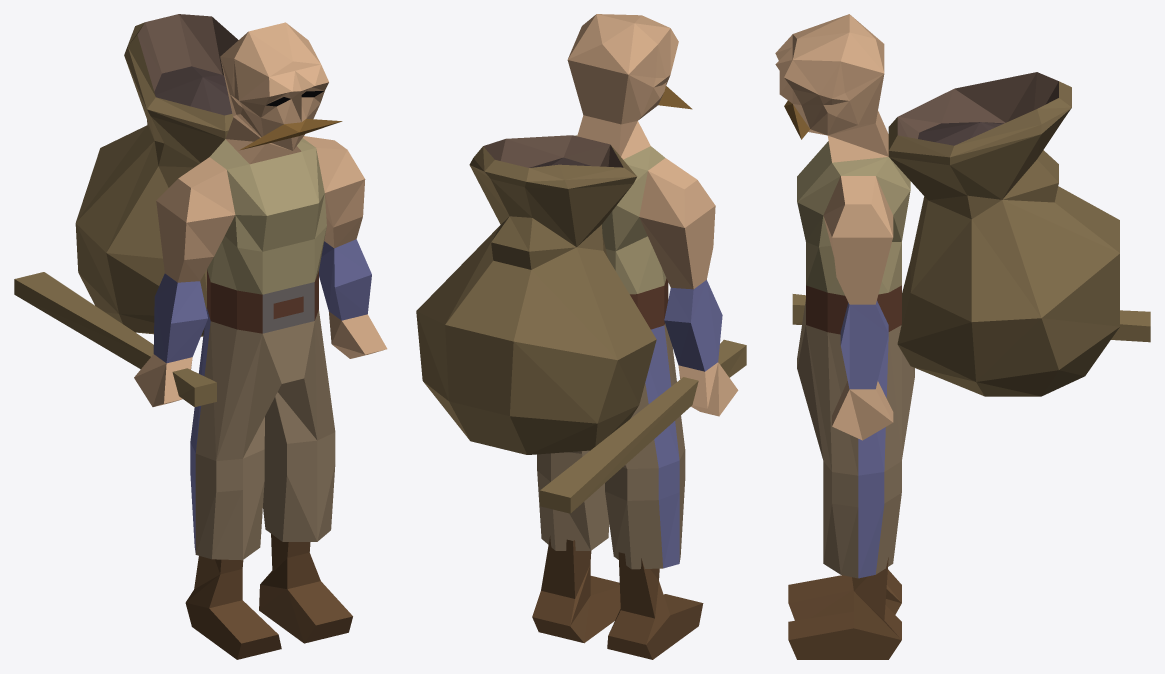
Rendered from lost-property.gltf.
3 views of the same model, side by side, from view 1: azimuth 30°, elevation 25°; view 2: azimuth 150°, elevation 25°; view 3: azimuth 270°, elevation 25° (orthographic). The views are drawn at different scales.
Size of the model in its own units: 60 by 154 by 86.
1 material, 1 textured.
